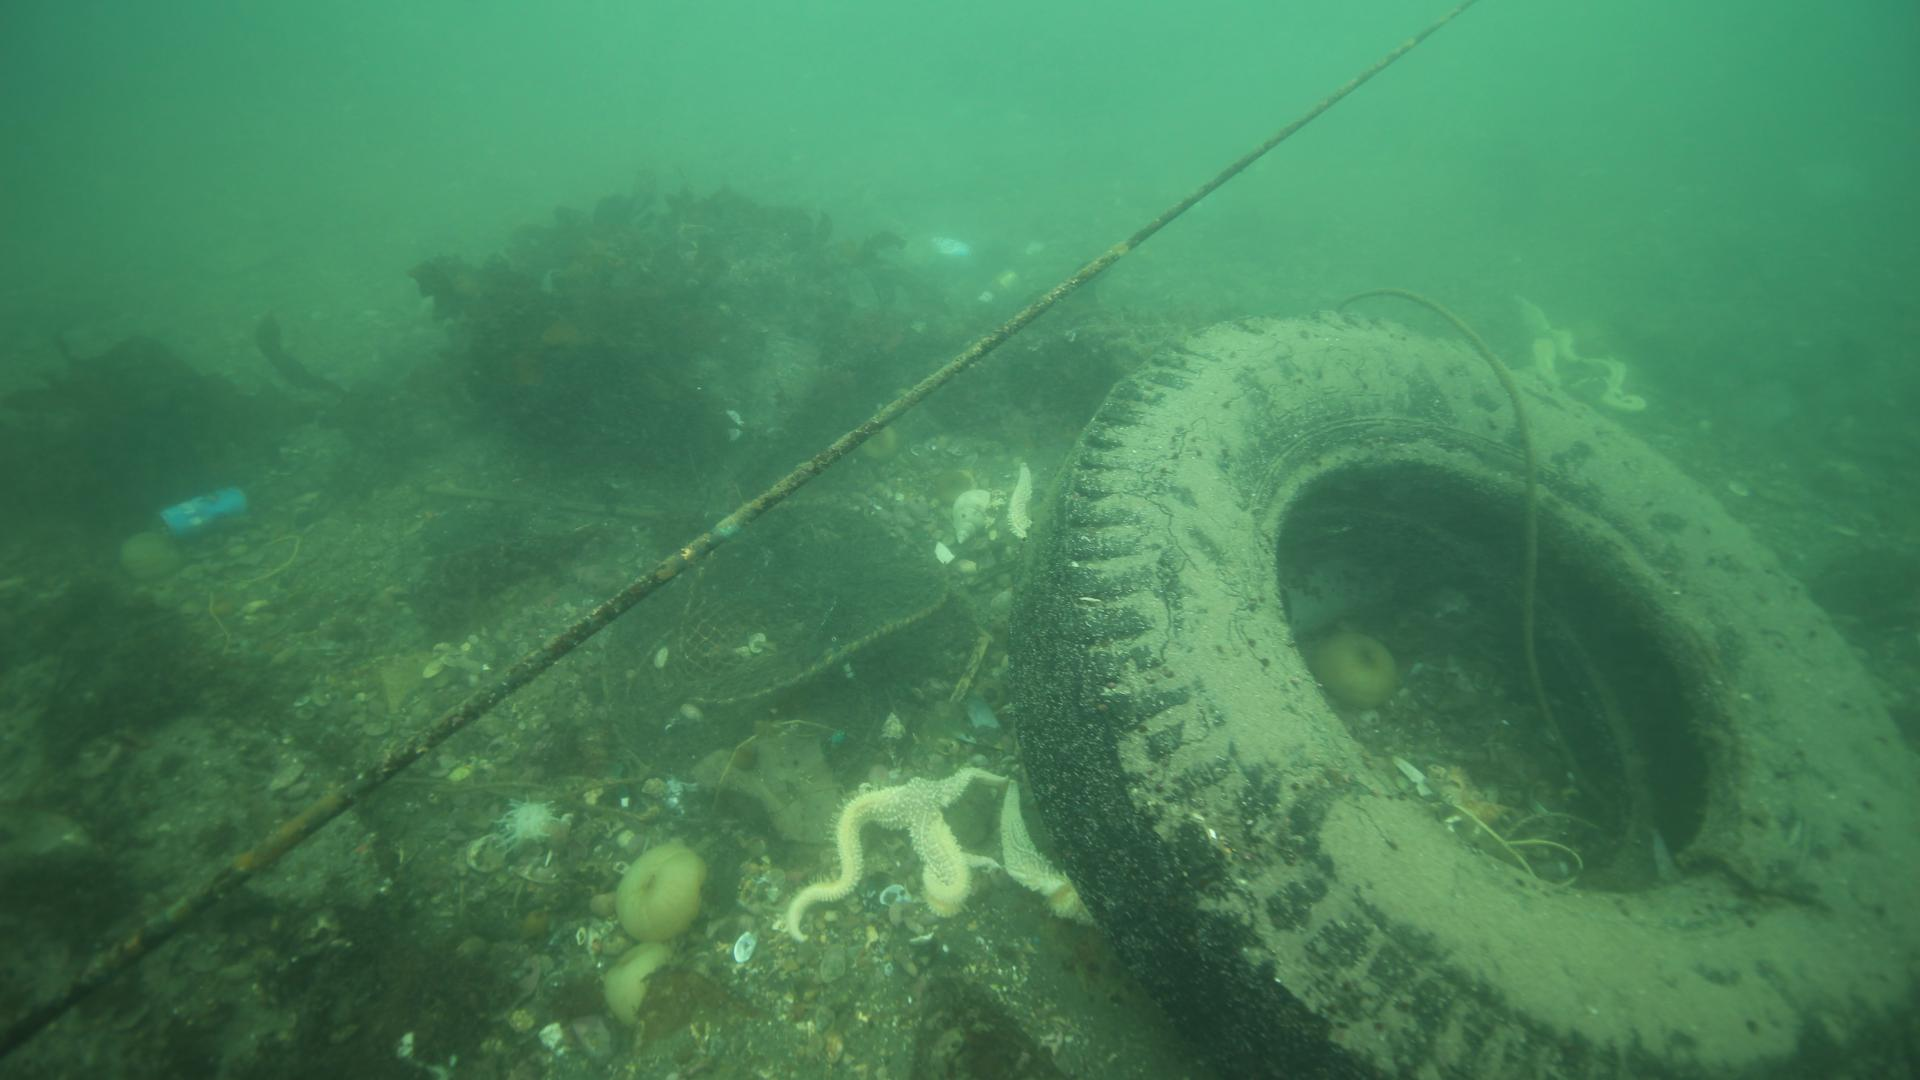rope: (1336, 286, 1567, 744)
tire: (1004, 307, 1920, 1080)
